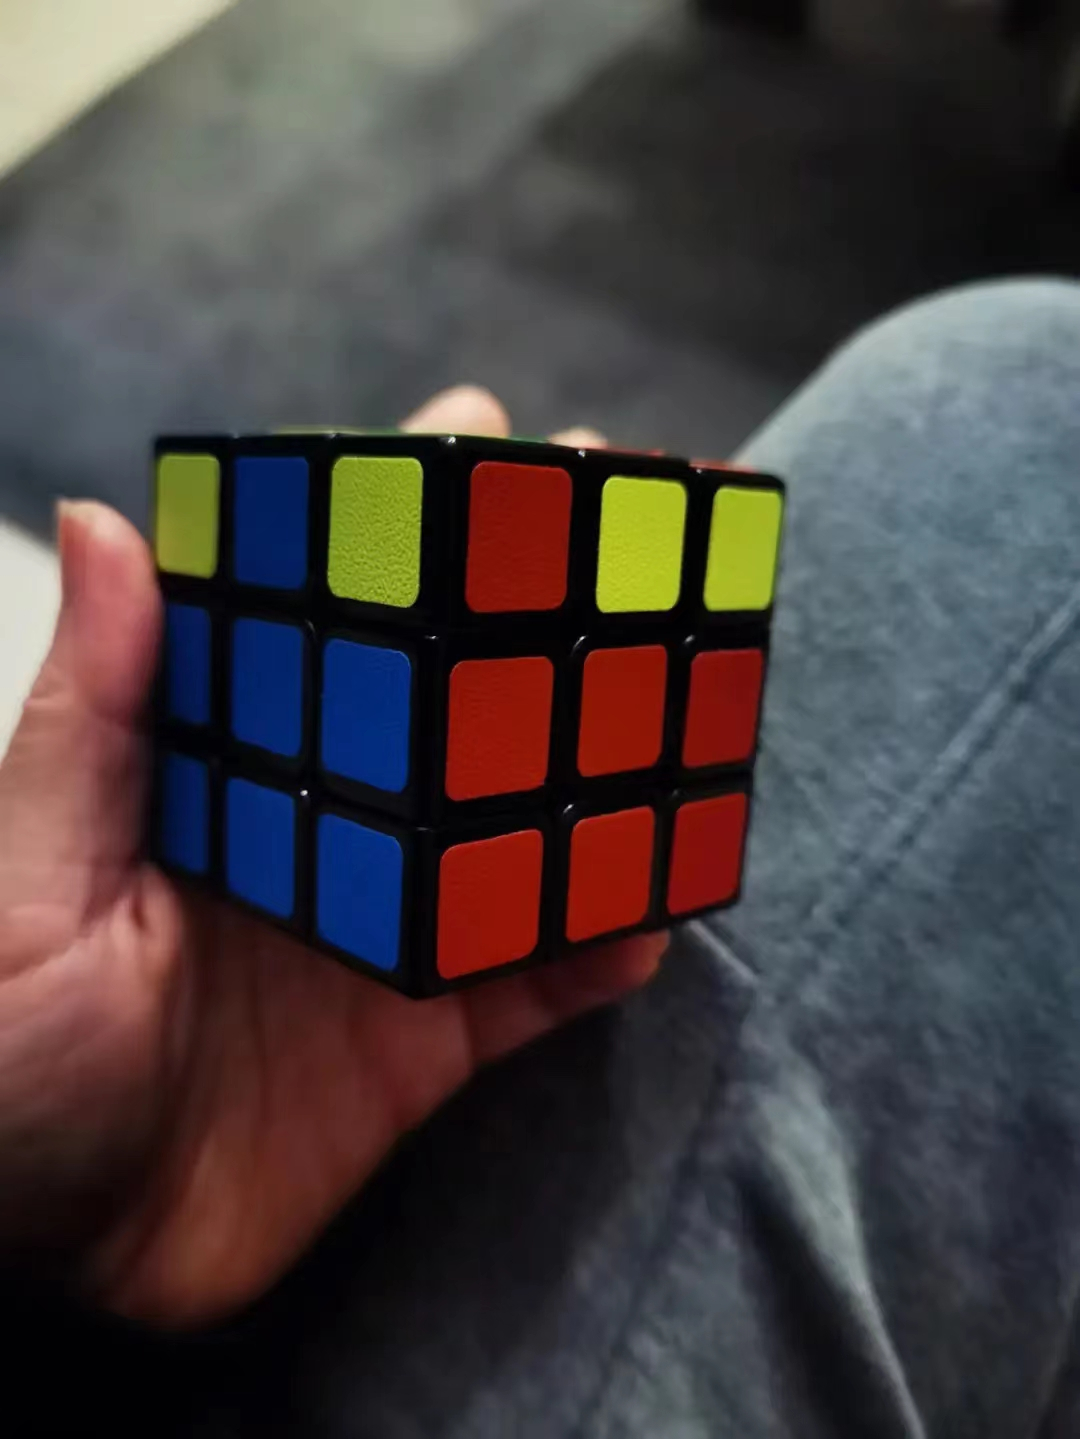cube: (138, 412, 792, 1010)
